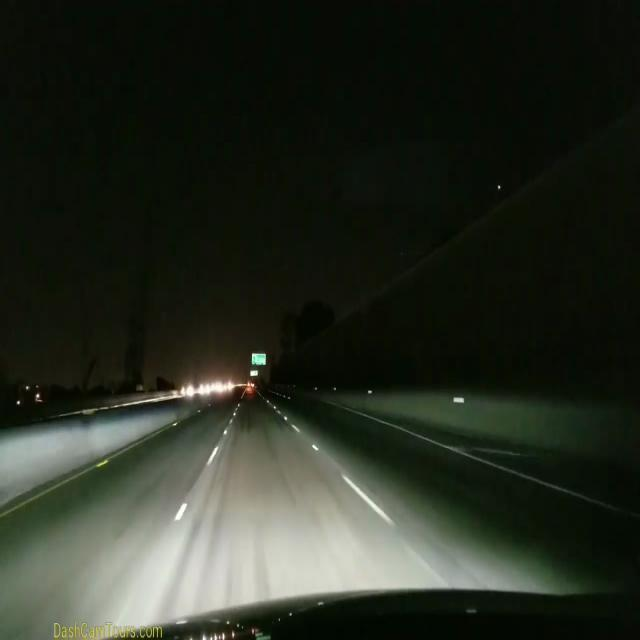street-signs: (251, 353, 266, 365), (250, 370, 258, 376)
